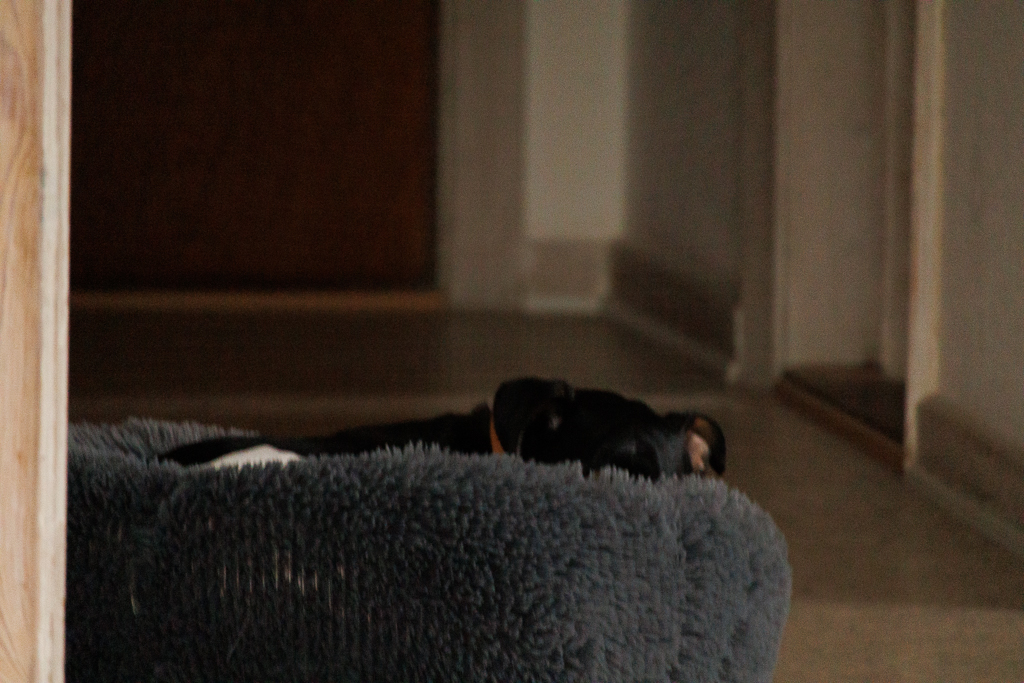Dog: (138, 371, 731, 492)
